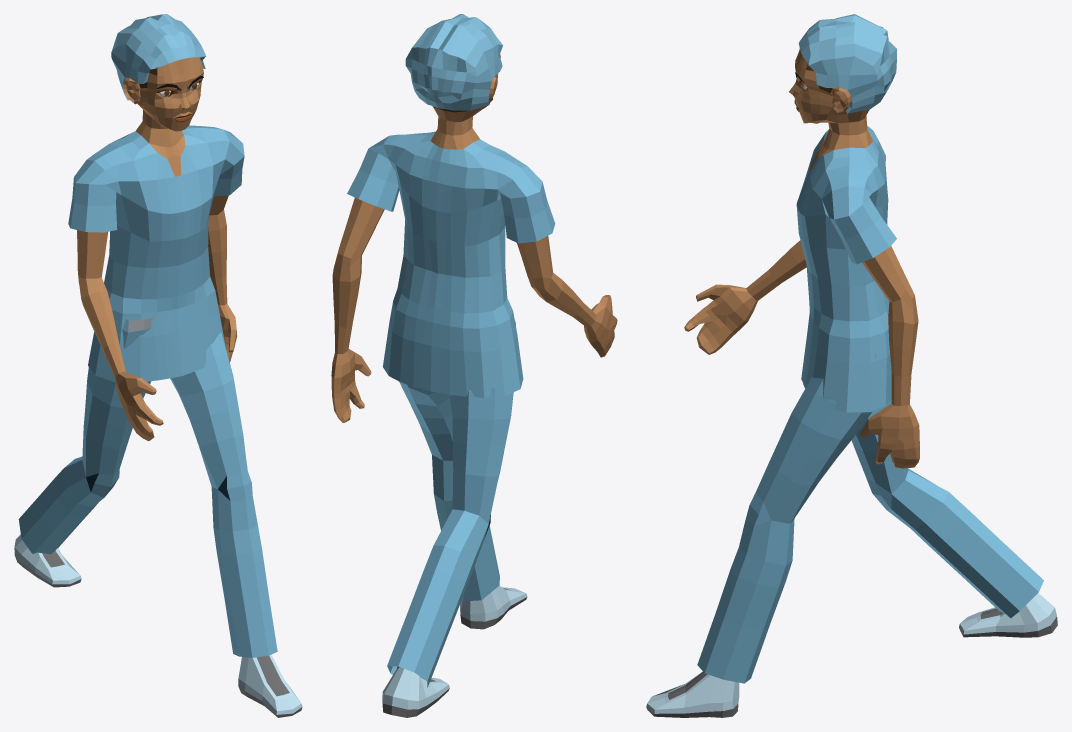
Rendered from Doctor_Walk.fbx.
3 views of the same model, side by side, from view 1: azimuth 30°, elevation 25°; view 2: azimuth 150°, elevation 25°; view 3: azimuth 270°, elevation 25° (orthographic). The views are drawn at different scales.
Parts seen in each view (by area): view 1: Doctor_Walk; view 2: Doctor_Walk; view 3: Doctor_Walk.
Part boxes in pixels (x1=…): Doctor_Walk: x1=14, y1=14, x2=302, y2=717; Doctor_Walk: x1=331, y1=14, x2=617, y2=717; Doctor_Walk: x1=646, y1=14, x2=1057, y2=717.
Size of the model in its own units: 0.3141 by 1.04 by 0.5758.
